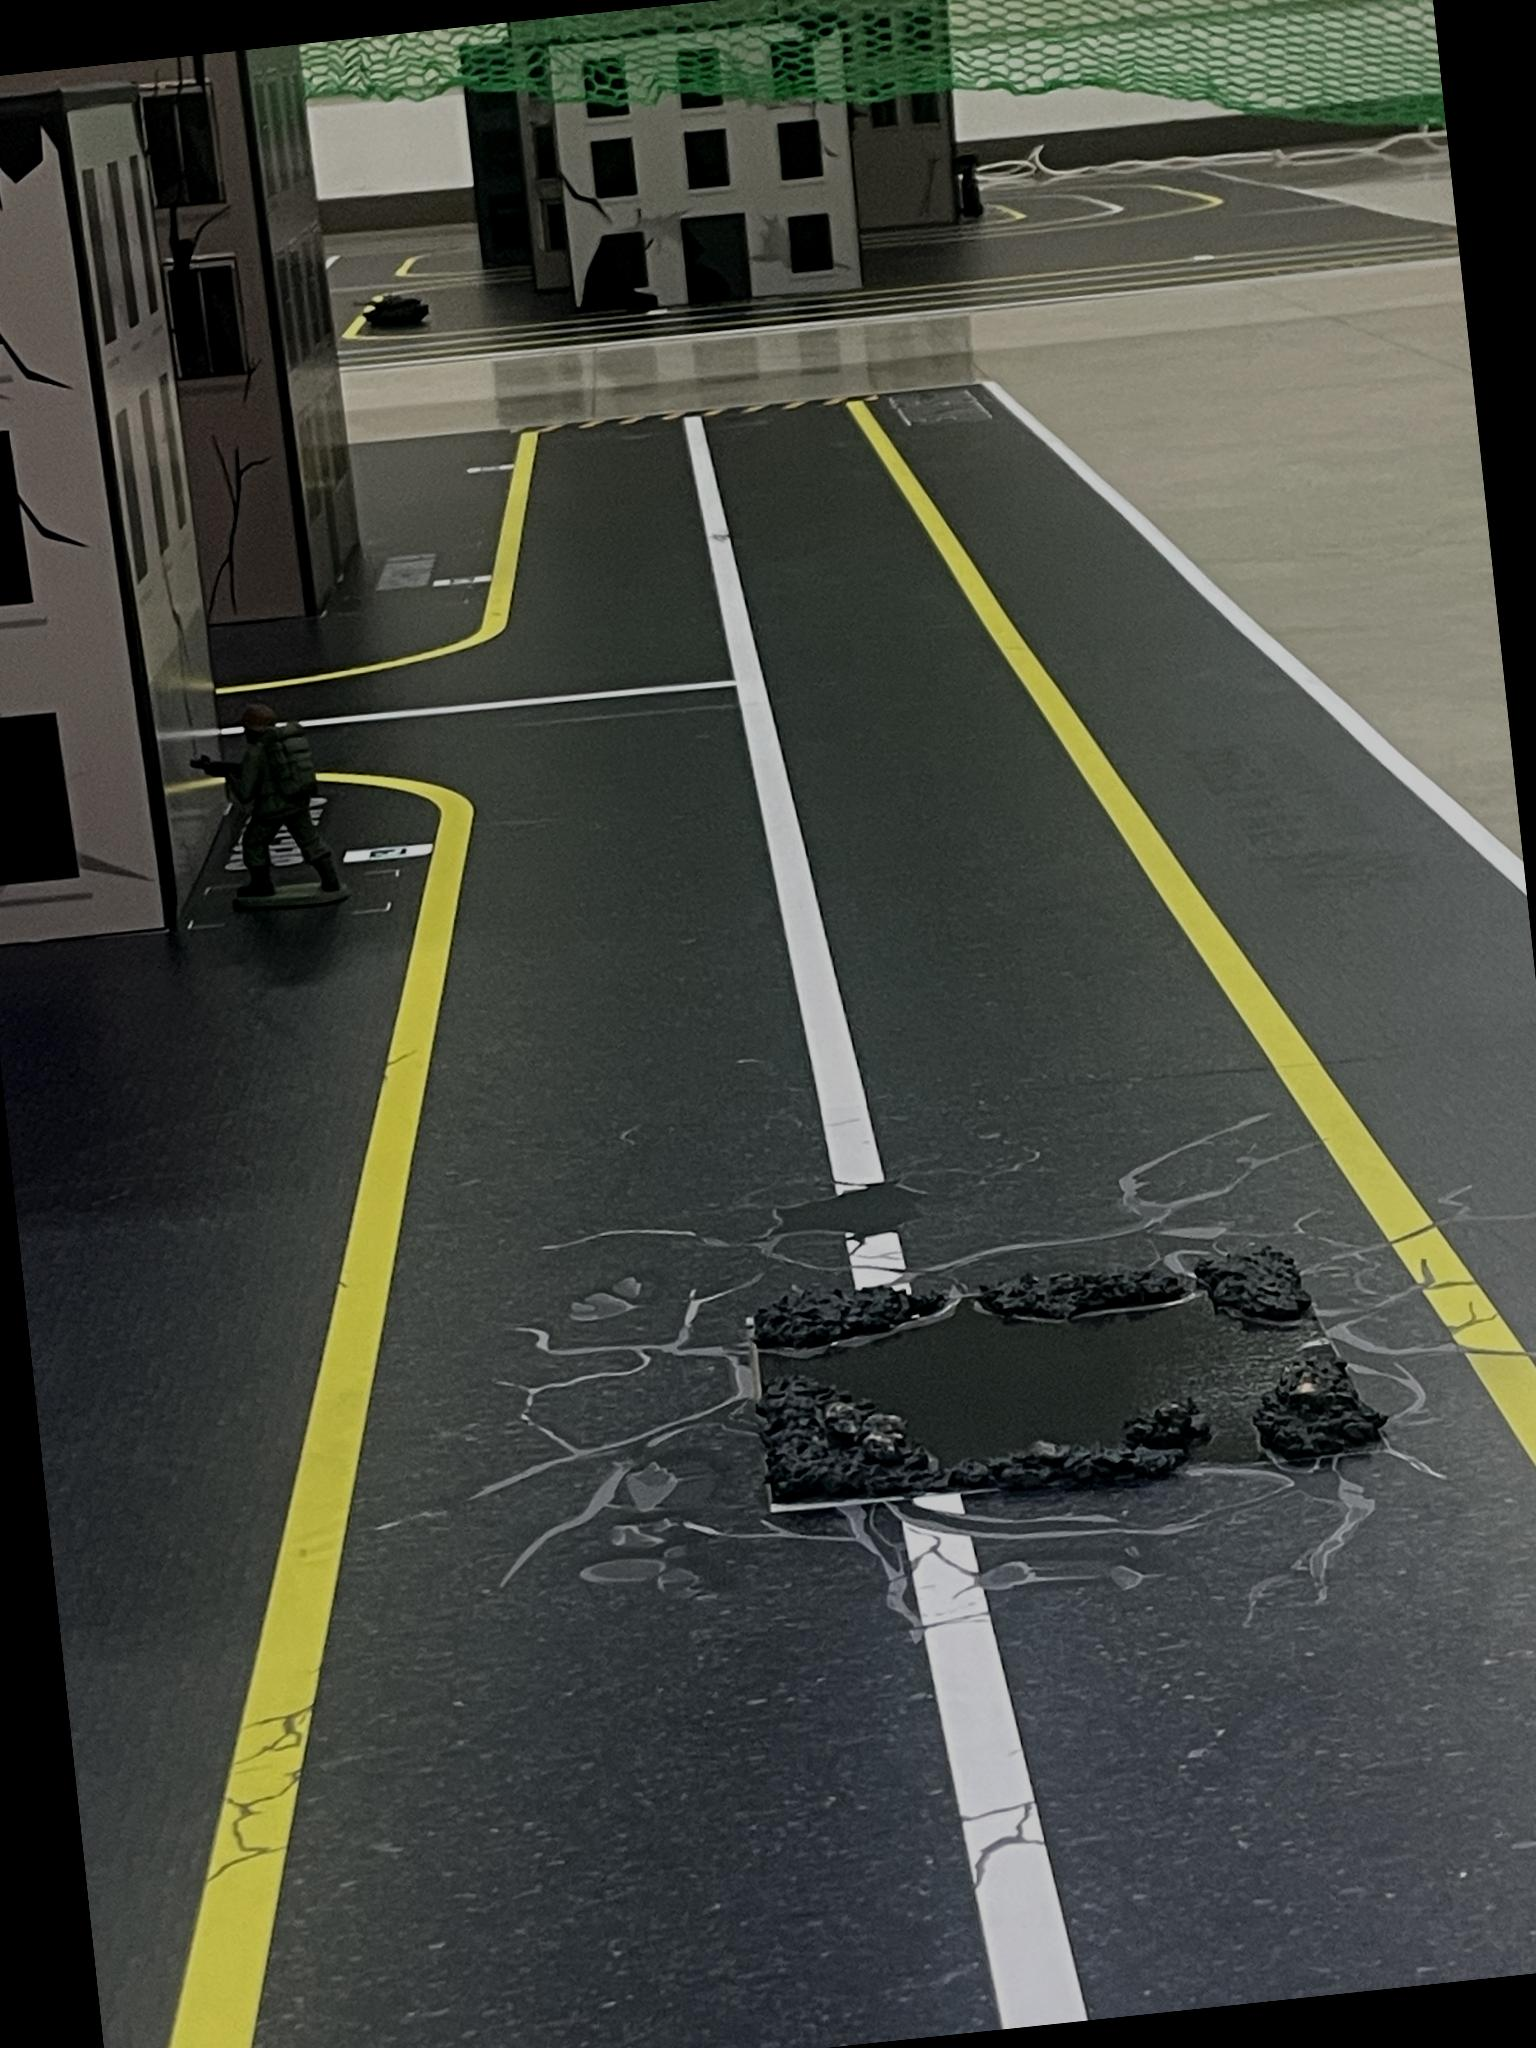Enemy: (186, 697, 352, 921)
Missile: (950, 145, 992, 224)
Tank: (350, 282, 440, 334)
